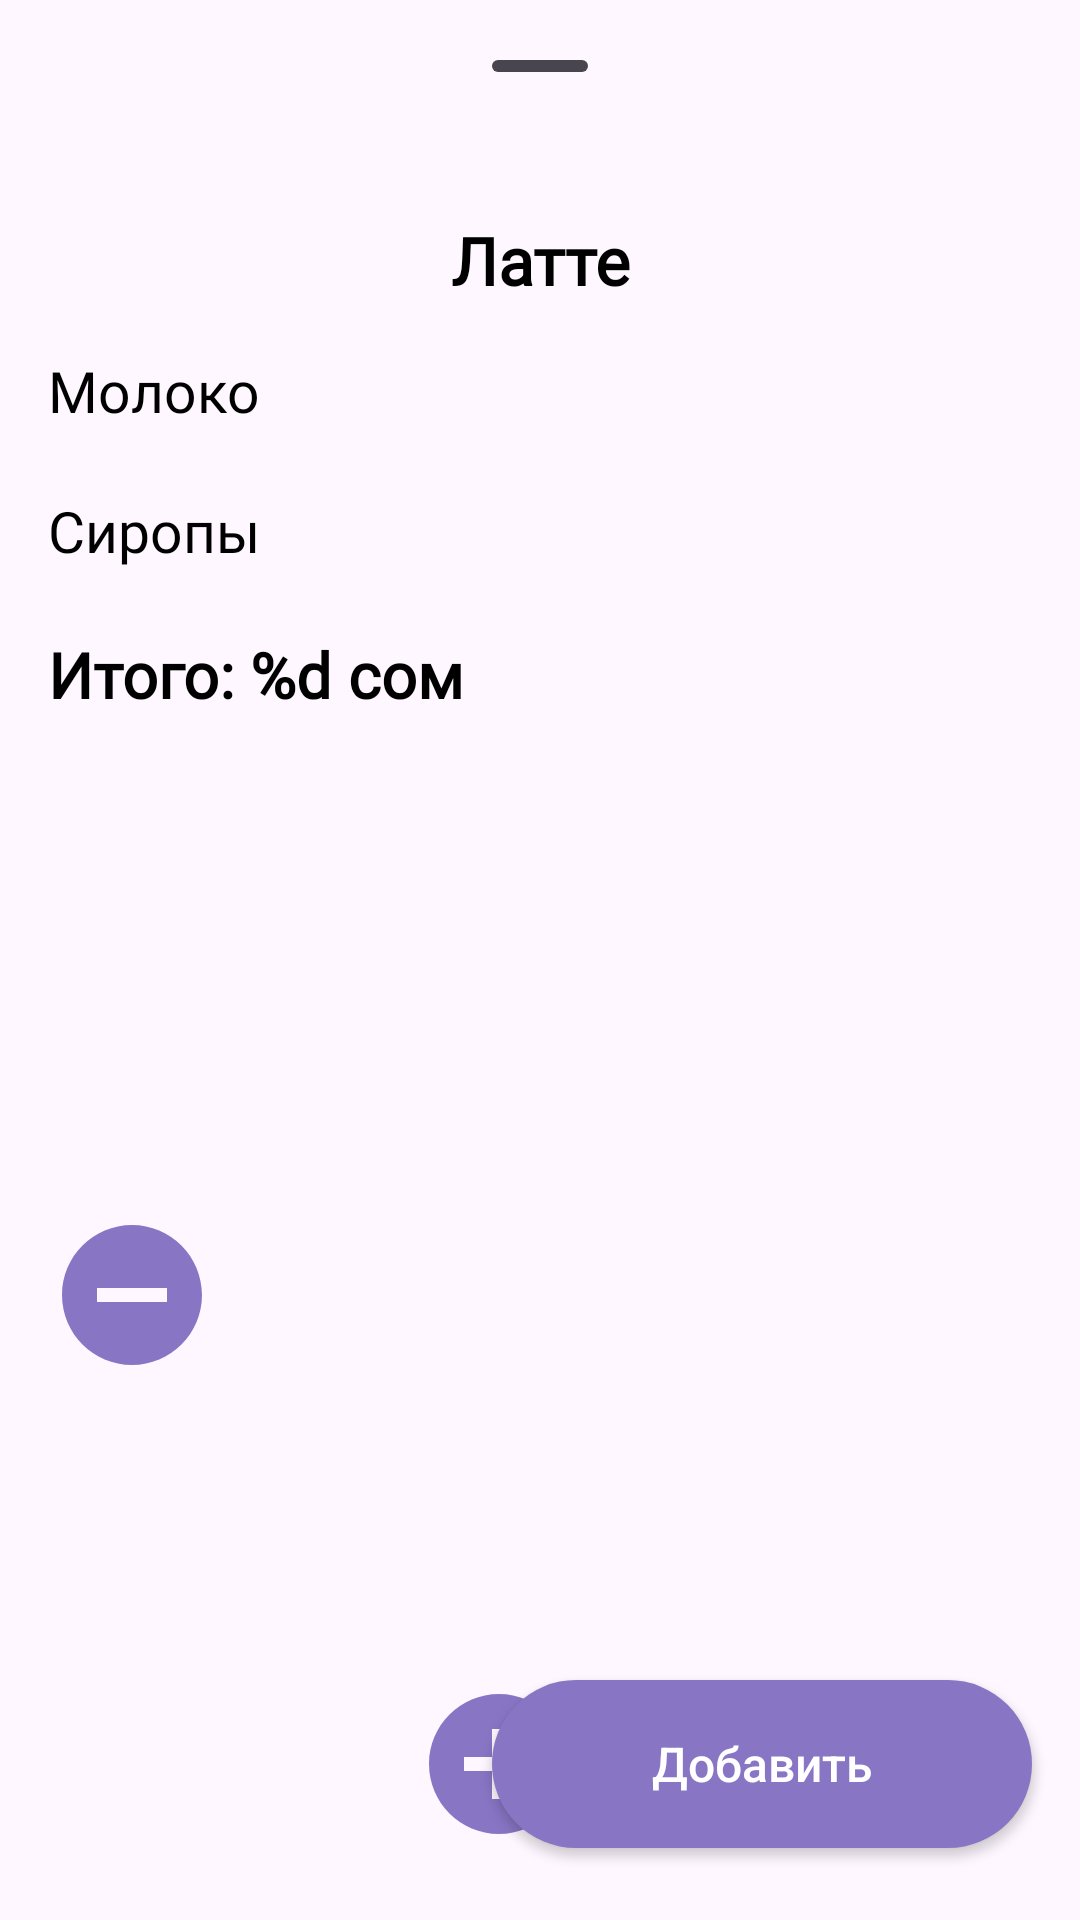

Named icons in this screenshot (1080px x 1920px) and their bounding boxes, (x1, y1, x2, y2):
remove: (62, 1225, 202, 1365)
